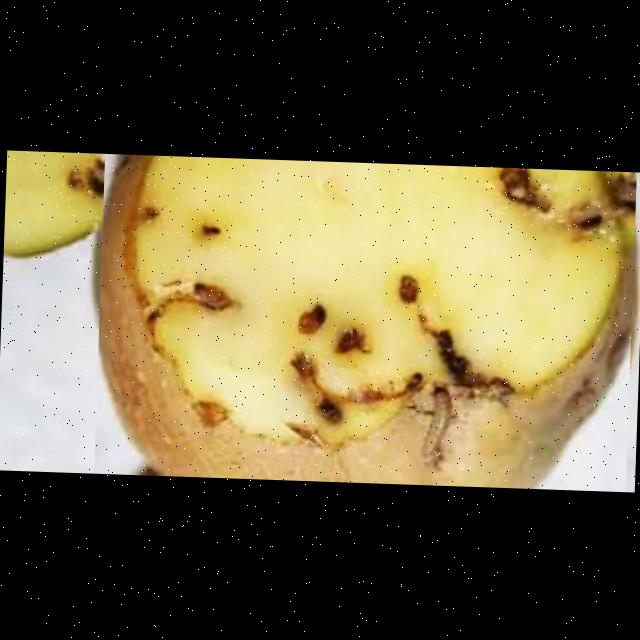Diseased-fungal potato: (92, 152, 636, 490)
